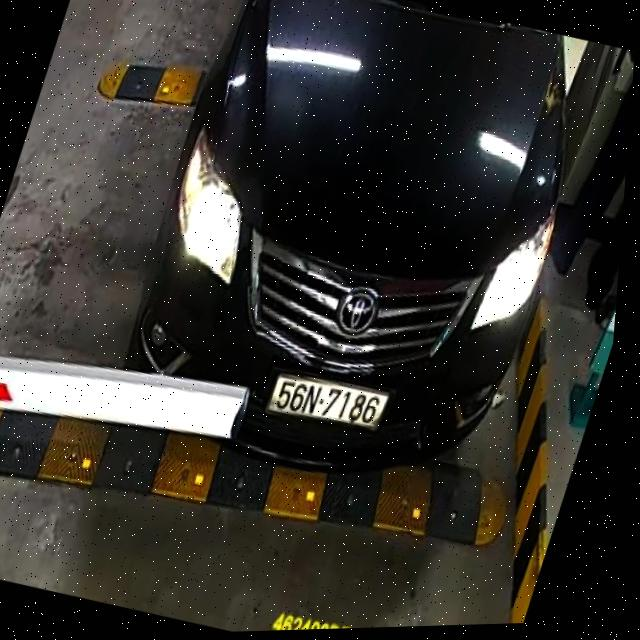car: (79, 0, 626, 525)
plate: (257, 361, 394, 442)
